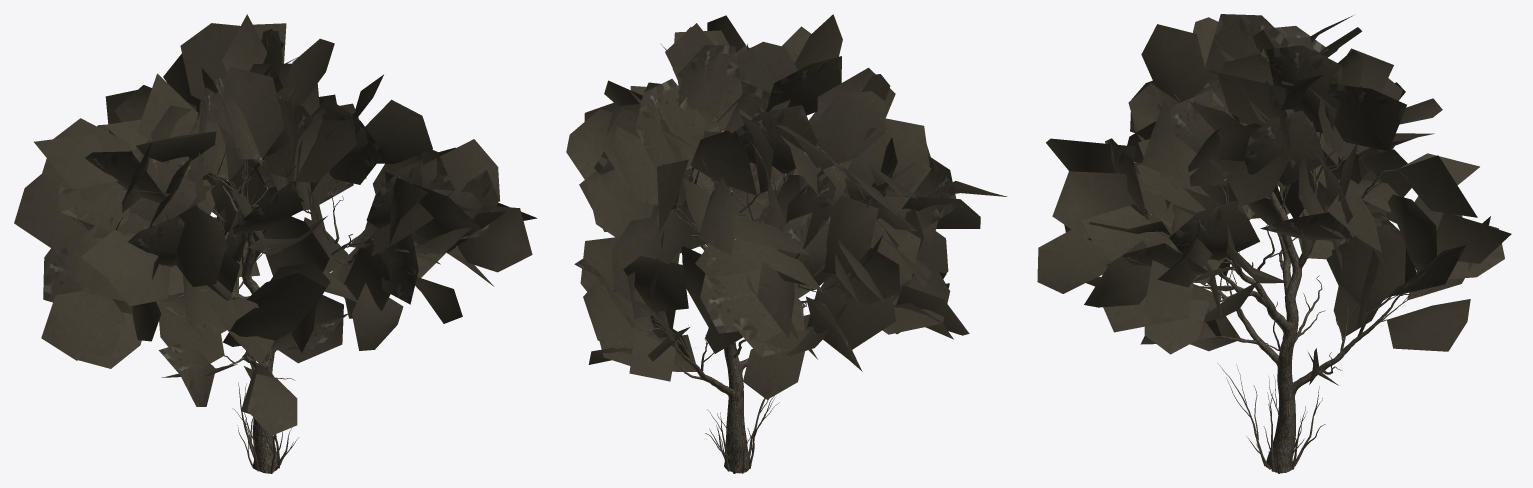
File: SM_Maple_Winter_01a.fbx
3 views of the same model, side by side, from view 1: azimuth 30°, elevation 25°; view 2: azimuth 150°, elevation 25°; view 3: azimuth 270°, elevation 25° (orthographic). The views are drawn at different scales.
Visible parts, largest first — view 1: SM_Maple_Winter_01a_LOD0; view 2: SM_Maple_Winter_01a_LOD0; view 3: SM_Maple_Winter_01a_LOD0.
Boxes of the visible parts, x1,y1,x2,y2 form: SM_Maple_Winter_01a_LOD0: (14, 14, 537, 473); SM_Maple_Winter_01a_LOD0: (566, 14, 1007, 473); SM_Maple_Winter_01a_LOD0: (1037, 14, 1511, 473).
Size of the model in its own units: 1014 by 955 by 977.
